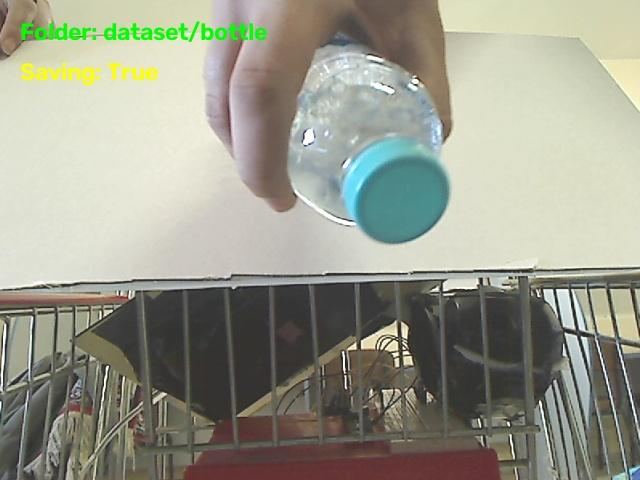Bottle: (289, 37, 449, 243)
